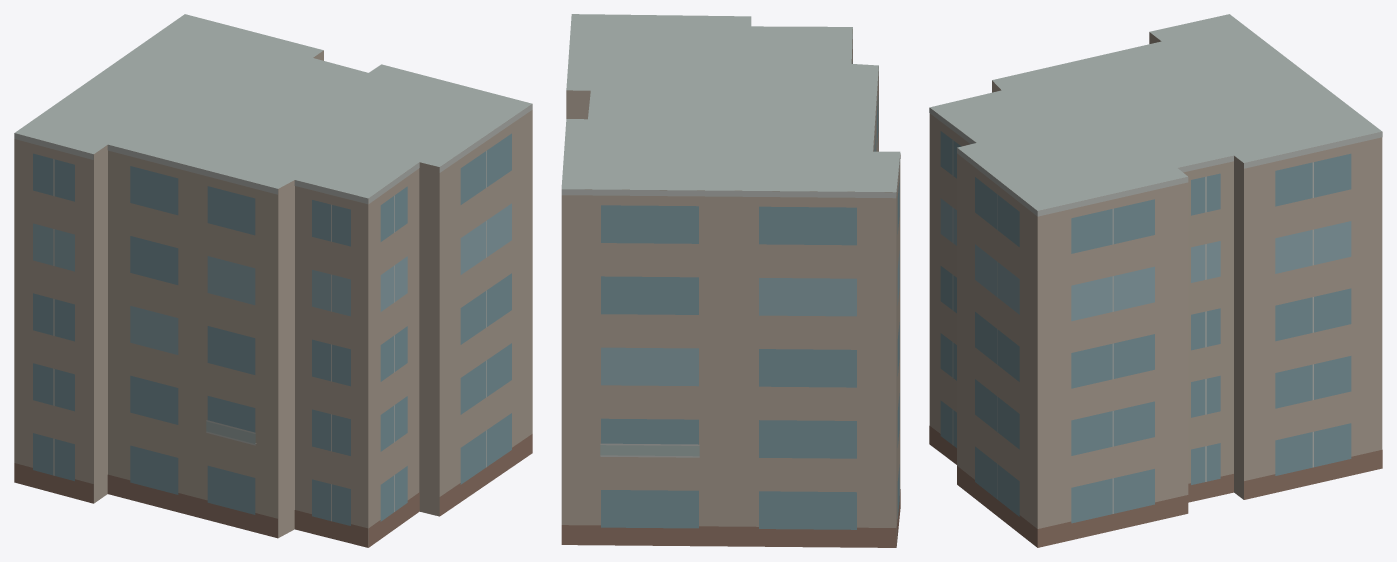
File: survey-upis-32513447.glb
3 renders of one model, left to right at view 1: azimuth 30°, elevation 25°; view 2: azimuth 150°, elevation 25°; view 3: azimuth 270°, elevation 25°, orthographic. The views are drawn at different scales.
Parts seen in each view (by area): view 1: survey-upis-32513447.tmp; view 2: survey-upis-32513447.tmp; view 3: survey-upis-32513447.tmp.
Part boxes in pixels (<box>): survey-upis-32513447.tmp: <box>14,14,532,547</box>; survey-upis-32513447.tmp: <box>561,14,900,547</box>; survey-upis-32513447.tmp: <box>929,14,1382,547</box>.
Size of the model in its own units: 18.06 by 14.4 by 17.55.
